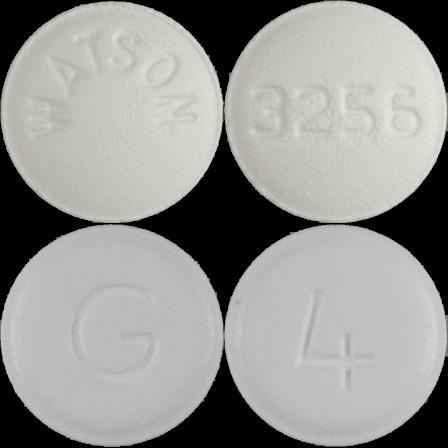16590-544: (0, 0, 224, 224)
